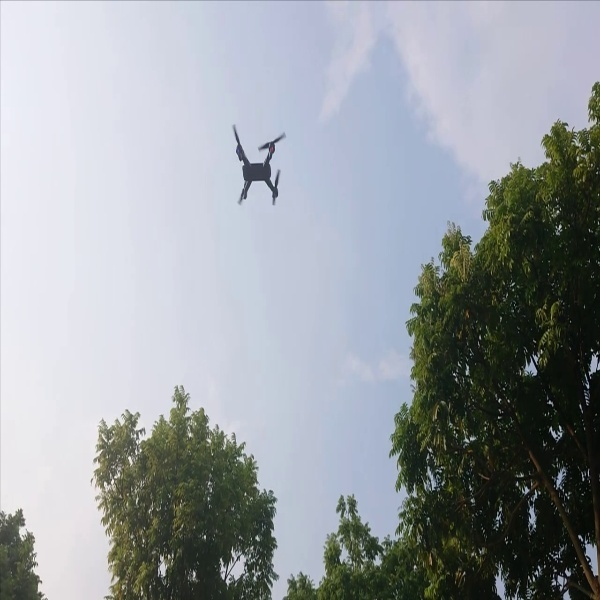drone: (212, 120, 295, 210)
